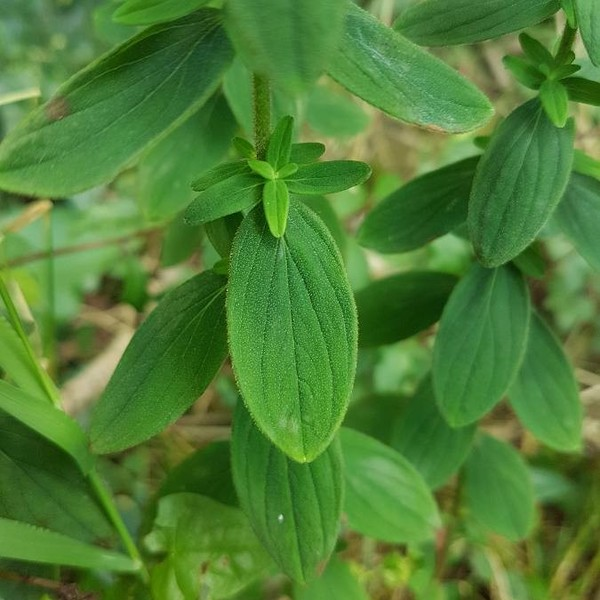obstacle: (116, 92, 583, 550)
